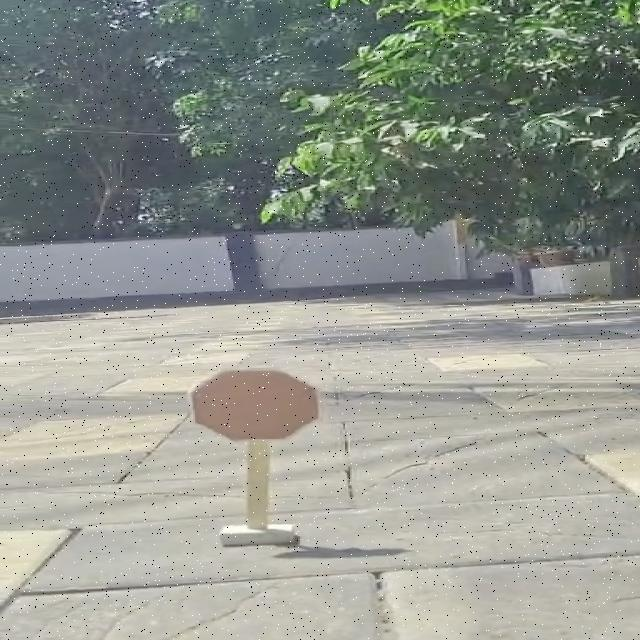Stop: (177, 360, 343, 449)
